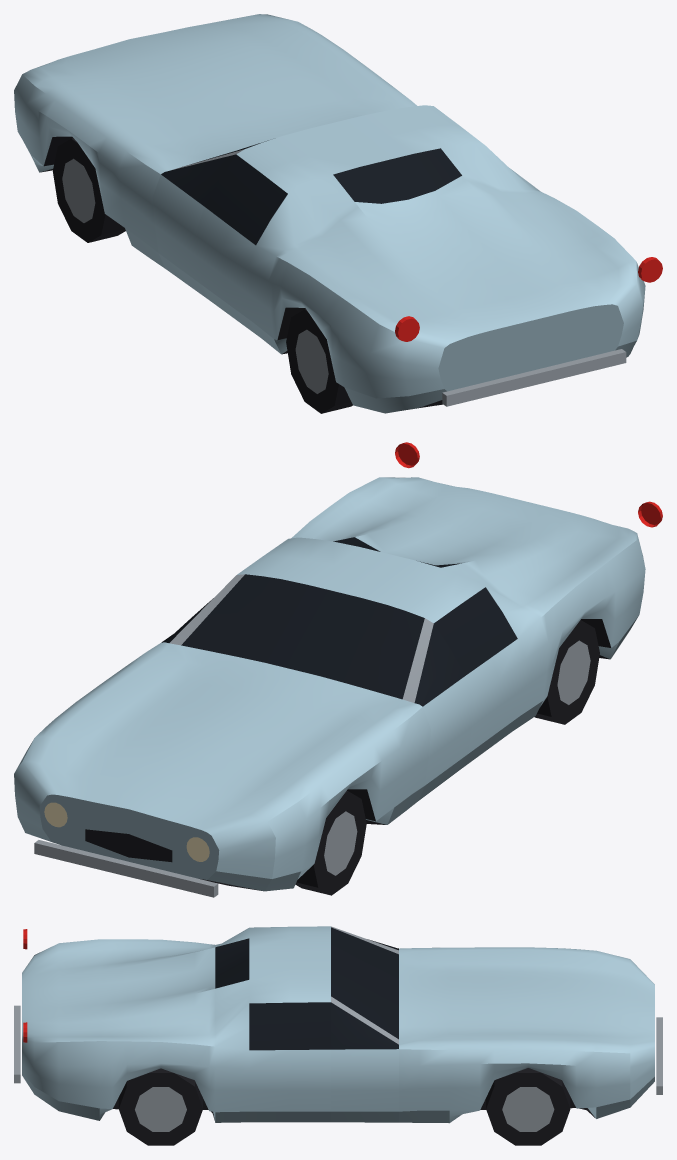
File: coastliner_lod1.glb
The picture shows the model from 3 angles, top to bottom: view 1: azimuth 30°, elevation 25°; view 2: azimuth 150°, elevation 25°; view 3: azimuth 270°, elevation 25°; orthographic projection. The views are drawn at different scales.
Parts seen in each view (by area): view 1: Body; view 2: Body; view 3: Body.
Boxes of the visible parts, bbox=[...] form: Body: bbox=[14, 14, 662, 413]; Body: bbox=[14, 442, 662, 897]; Body: bbox=[14, 926, 662, 1145].
Bounding box in the file's own units: 1.9 × 1.11 × 4.77.
